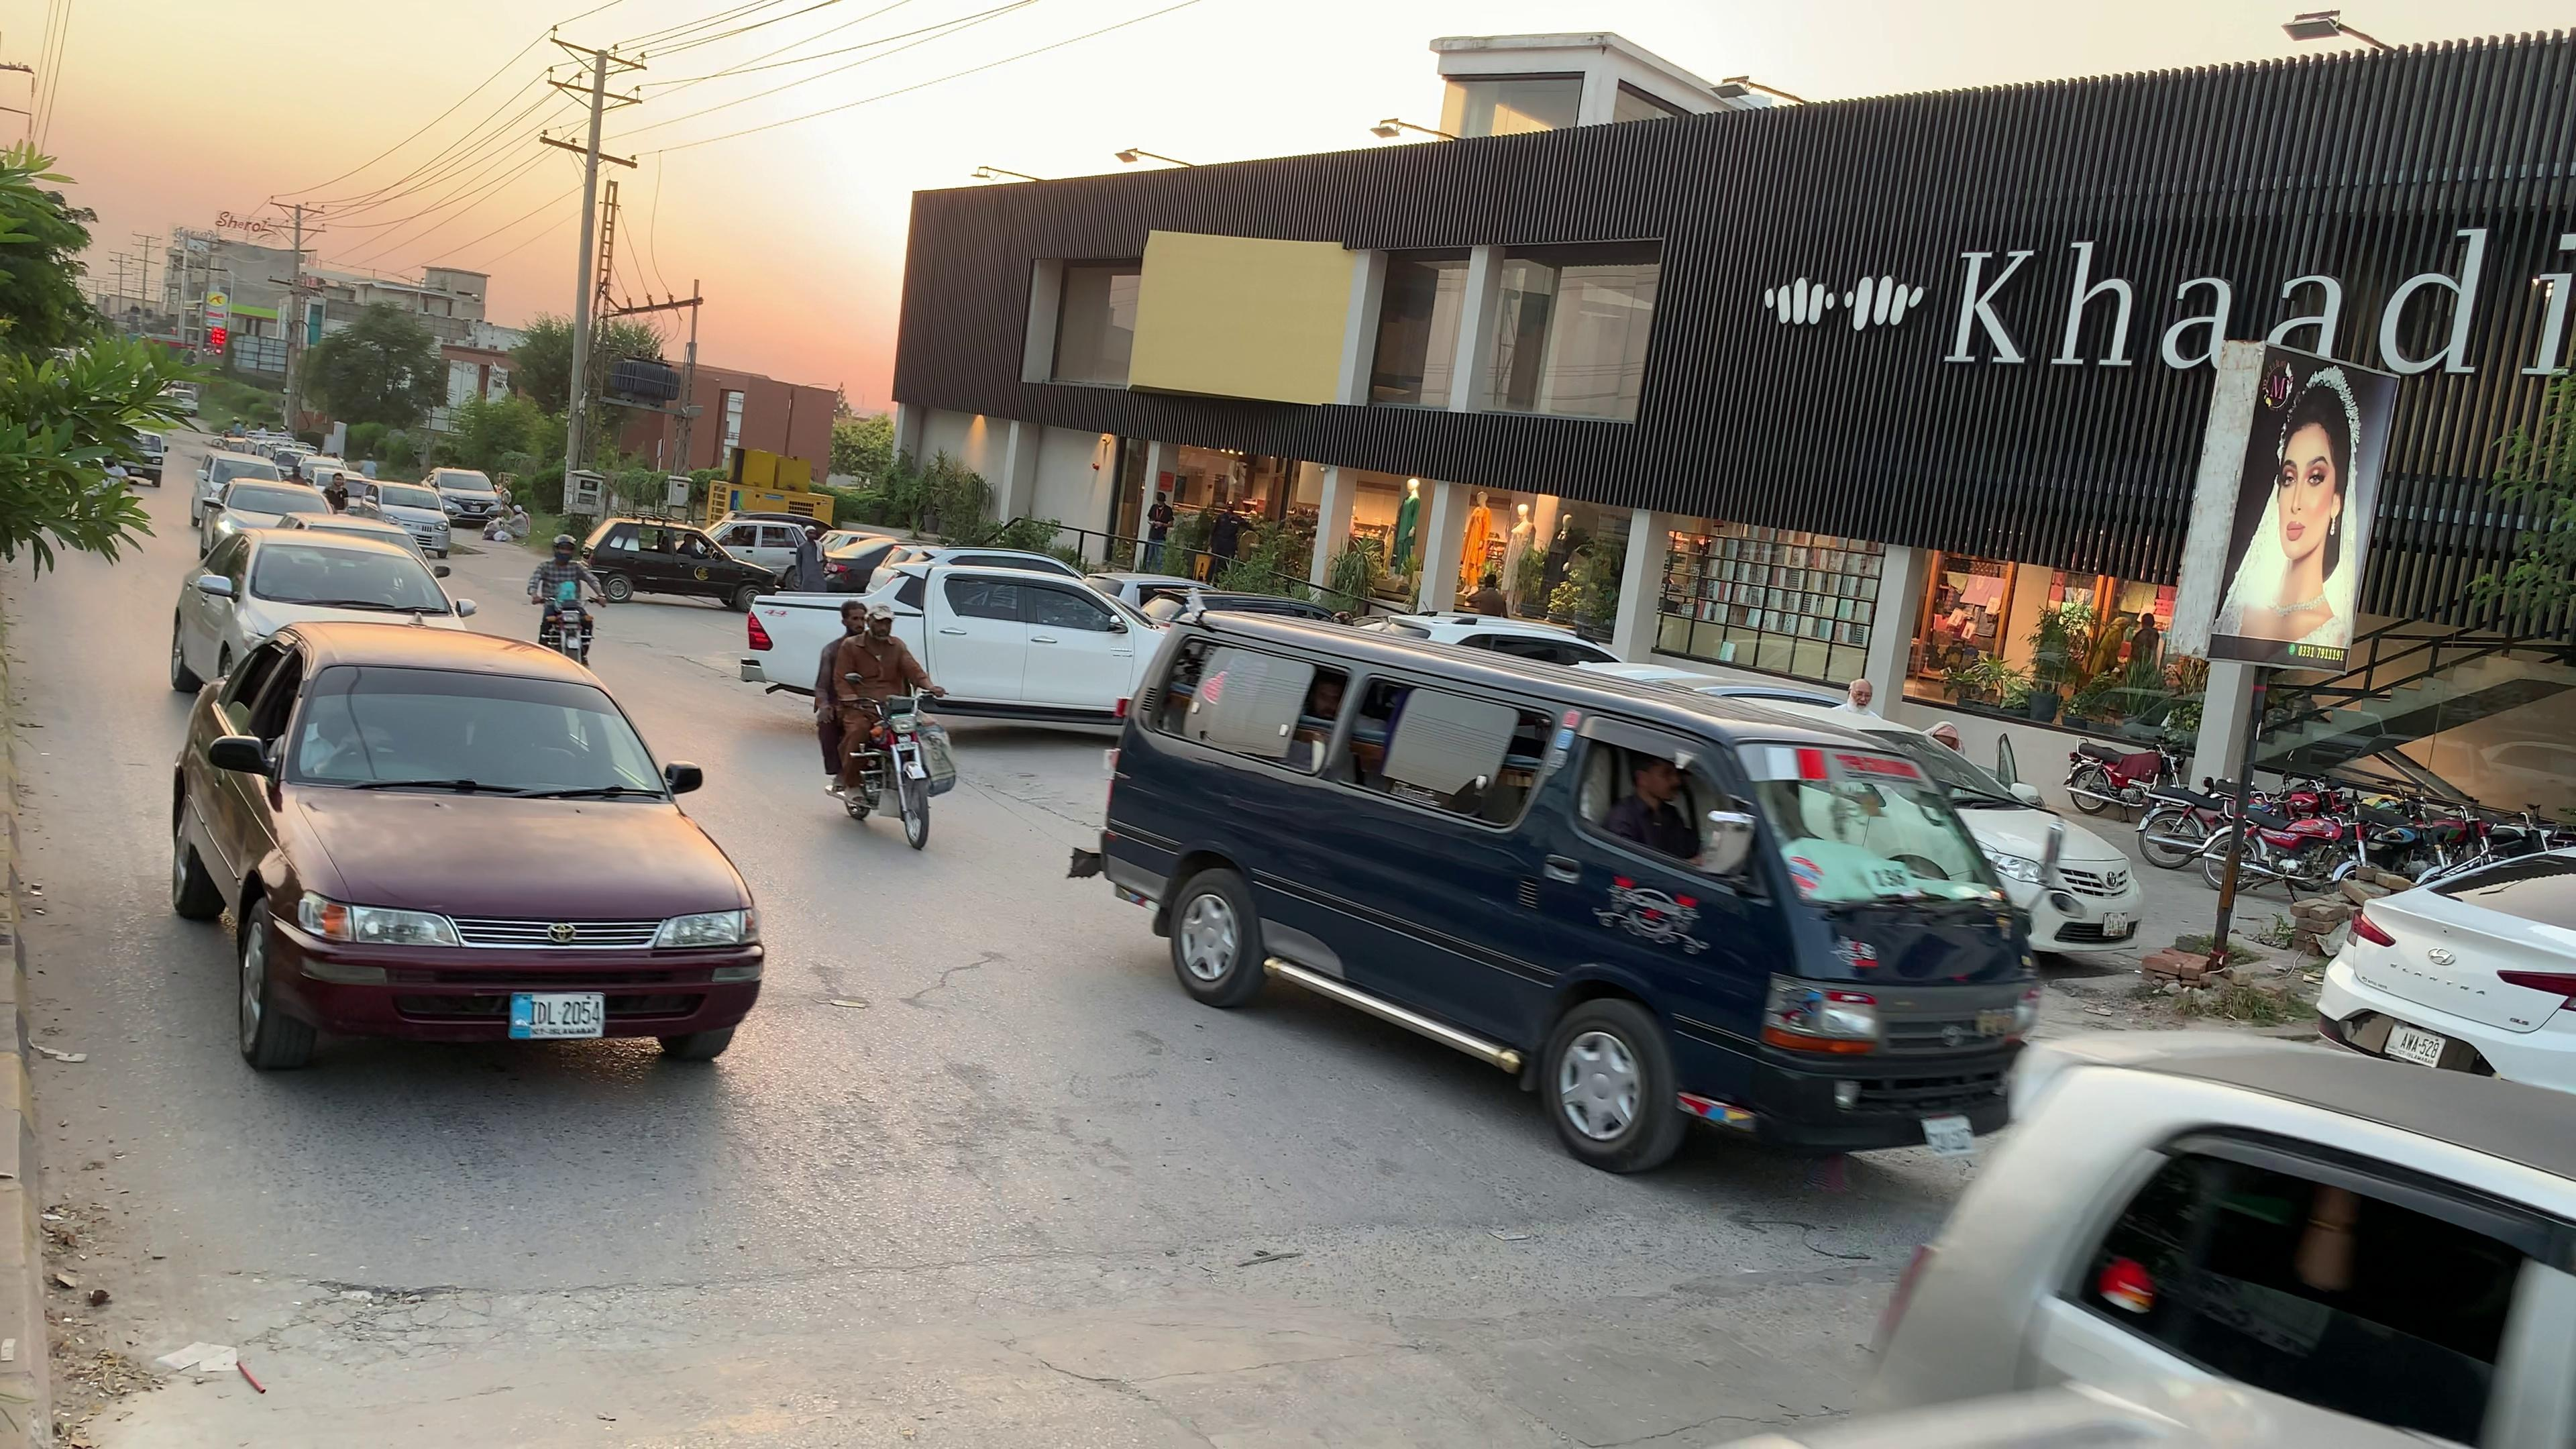windshield: (283, 658, 681, 809)
